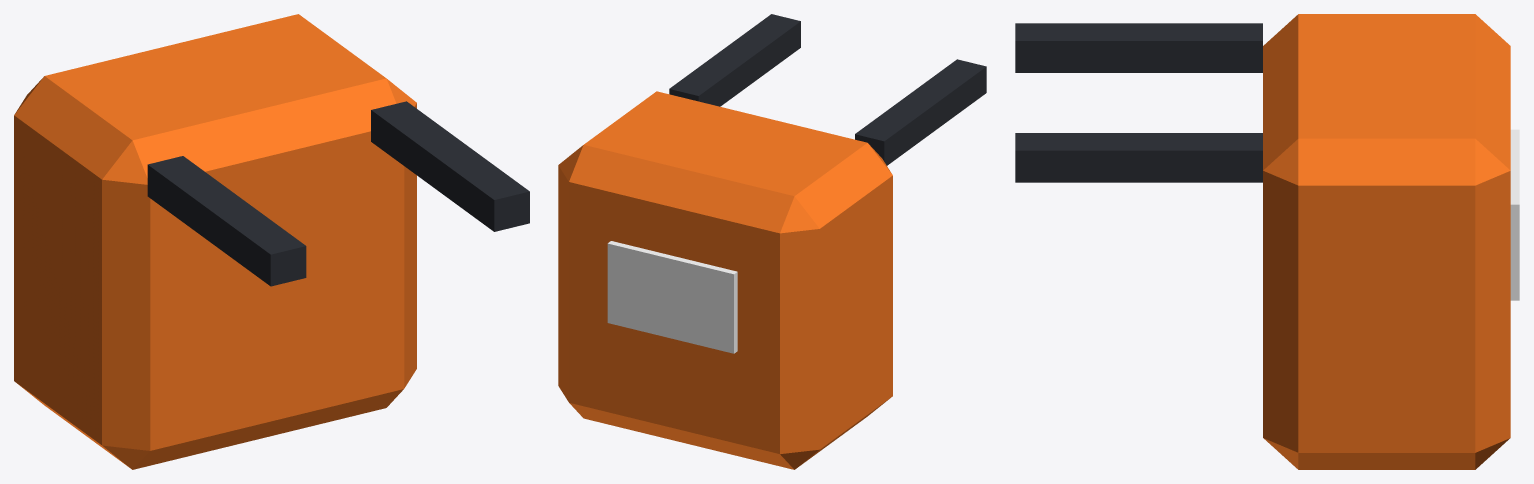
The model's file is acc_bag.glb.
3 views of the same model, side by side, from view 1: azimuth 30°, elevation 25°; view 2: azimuth 150°, elevation 25°; view 3: azimuth 270°, elevation 25° (orthographic). The views are drawn at different scales.
Parts seen in each view (by area): view 1: acc_bag; view 2: acc_bag; view 3: acc_bag.
Part boxes in pixels (x1,y1,x2,y2): acc_bag: (14, 14, 529, 469); acc_bag: (558, 14, 986, 469); acc_bag: (1015, 14, 1519, 469).
Bounding box in the file's own units: 0.62 × 0.62 × 0.855.
